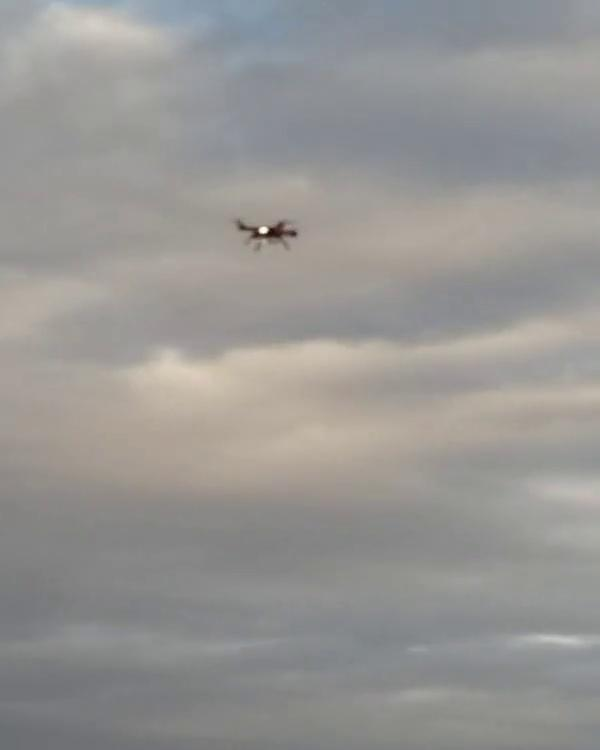drone: (229, 211, 304, 251)
